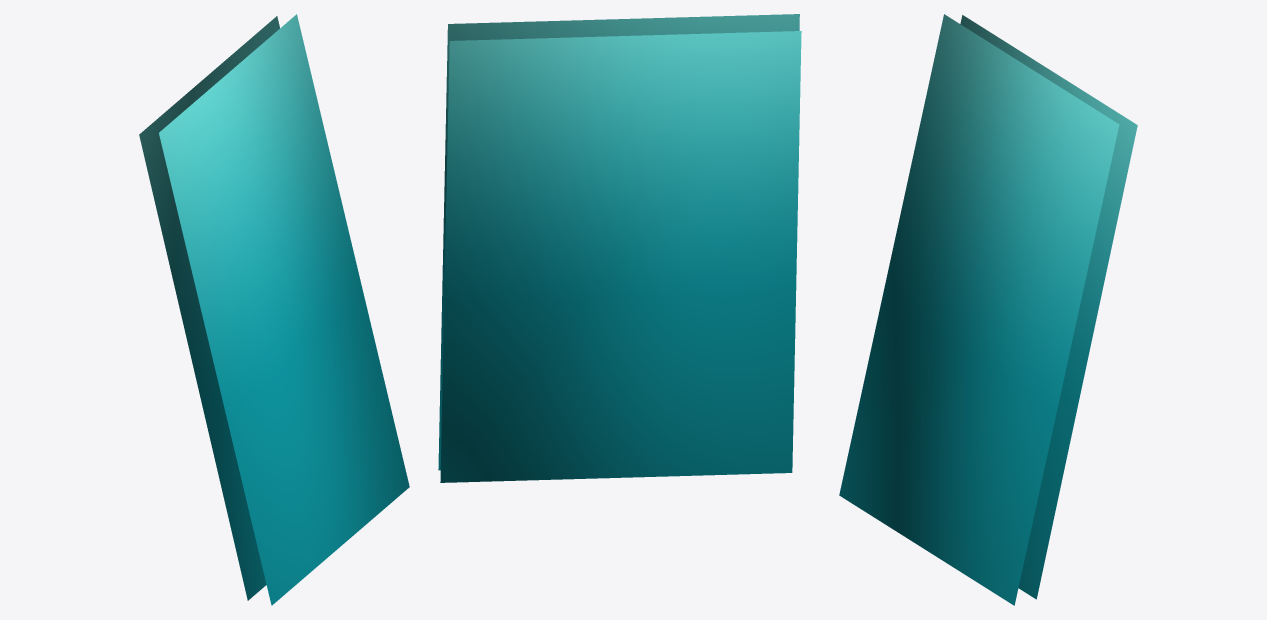
The model's file is MenuTable.fbx.
The picture shows the model from 3 angles, left to right: view 1: azimuth 30°, elevation 25°; view 2: azimuth 150°, elevation 25°; view 3: azimuth 270°, elevation 25°; orthographic projection. The views are drawn at different scales.
Parts seen in each view (by area): view 1: MenuTable; view 2: MenuTable; view 3: MenuTable.
Boxes of the visible parts, x1=… form: MenuTable: x1=139, y1=14, x2=409, y2=605; MenuTable: x1=438, y1=14, x2=801, y2=482; MenuTable: x1=839, y1=14, x2=1137, y2=605.
Bounding box in the file's own units: 0.2474 × 0.2928 × 0.2429.
